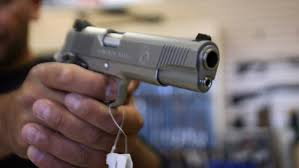gun: (46, 17, 221, 168)
